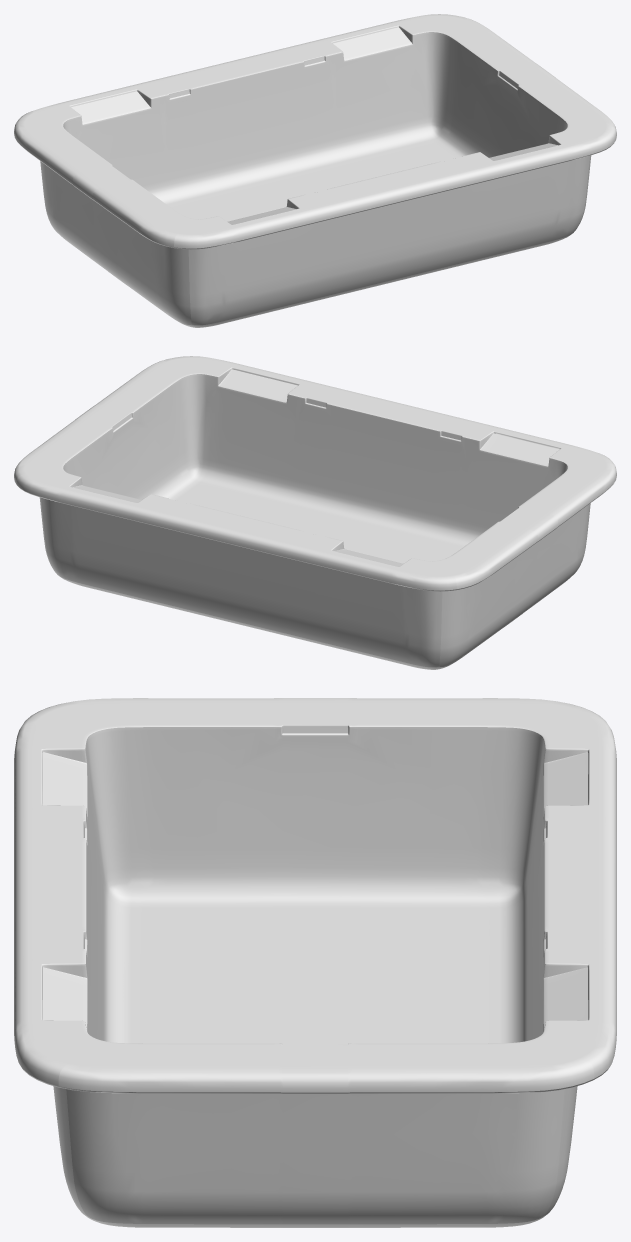
The picture shows the model from 3 angles, top to bottom: view 1: azimuth 30°, elevation 25°; view 2: azimuth 150°, elevation 25°; view 3: azimuth 270°, elevation 25°; orthographic projection. The views are drawn at different scales.
Visible parts, largest first — view 1: 271CM1042WH; view 2: 271CM1042WH; view 3: 271CM1042WH.
Boxes of the visible parts, left/top/right/bottom form: 271CM1042WH: left=14, top=14, right=616, bottom=327; 271CM1042WH: left=14, top=356, right=616, bottom=669; 271CM1042WH: left=14, top=698, right=616, bottom=1227.
Size of the model in its own units: 0.612 by 0.1503 by 0.4073.
Materials: 1 (1 with a texture image).
